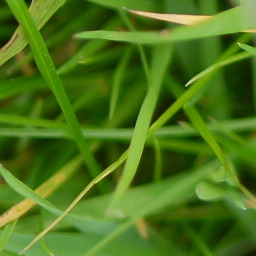weed: (1, 1, 256, 255)
